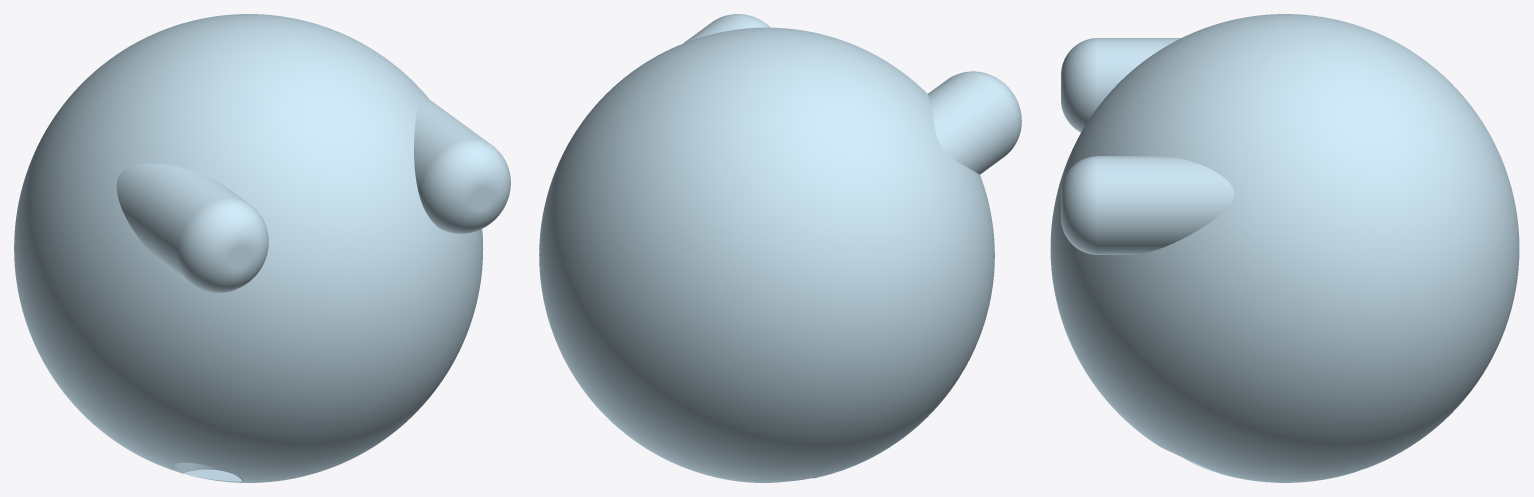
The model's file is Head.gltf.
3 views of the same model, side by side, from view 1: azimuth 30°, elevation 25°; view 2: azimuth 150°, elevation 25°; view 3: azimuth 270°, elevation 25° (orthographic). The views are drawn at different scales.
Visible parts, largest first — view 1: Part 1; view 2: Part 1; view 3: Part 1.
Boxes of the visible parts, x1,y1,x2,y2 form: Part 1: (14, 14, 510, 482); Part 1: (539, 14, 1021, 482); Part 1: (1050, 14, 1519, 482).
Bounding box in the file's own units: 0.0532 × 0.0532 × 0.0532.
